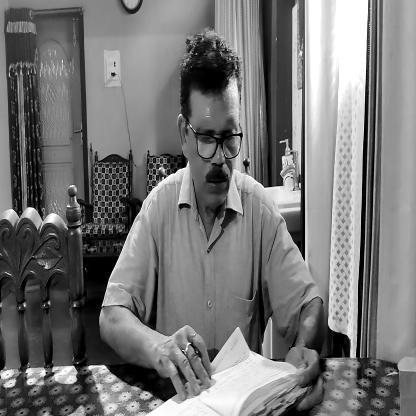Normal: (175, 29, 243, 211)
